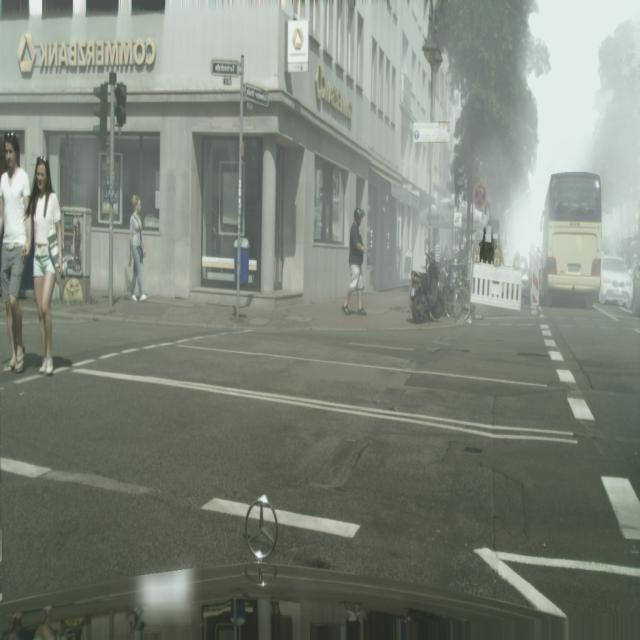bicycle: (540, 171, 602, 306)
bus: (24, 156, 64, 376), (0, 132, 31, 374), (342, 208, 367, 315), (129, 194, 147, 304)
motorcycle: (409, 258, 445, 323)
person: (598, 254, 632, 306)
